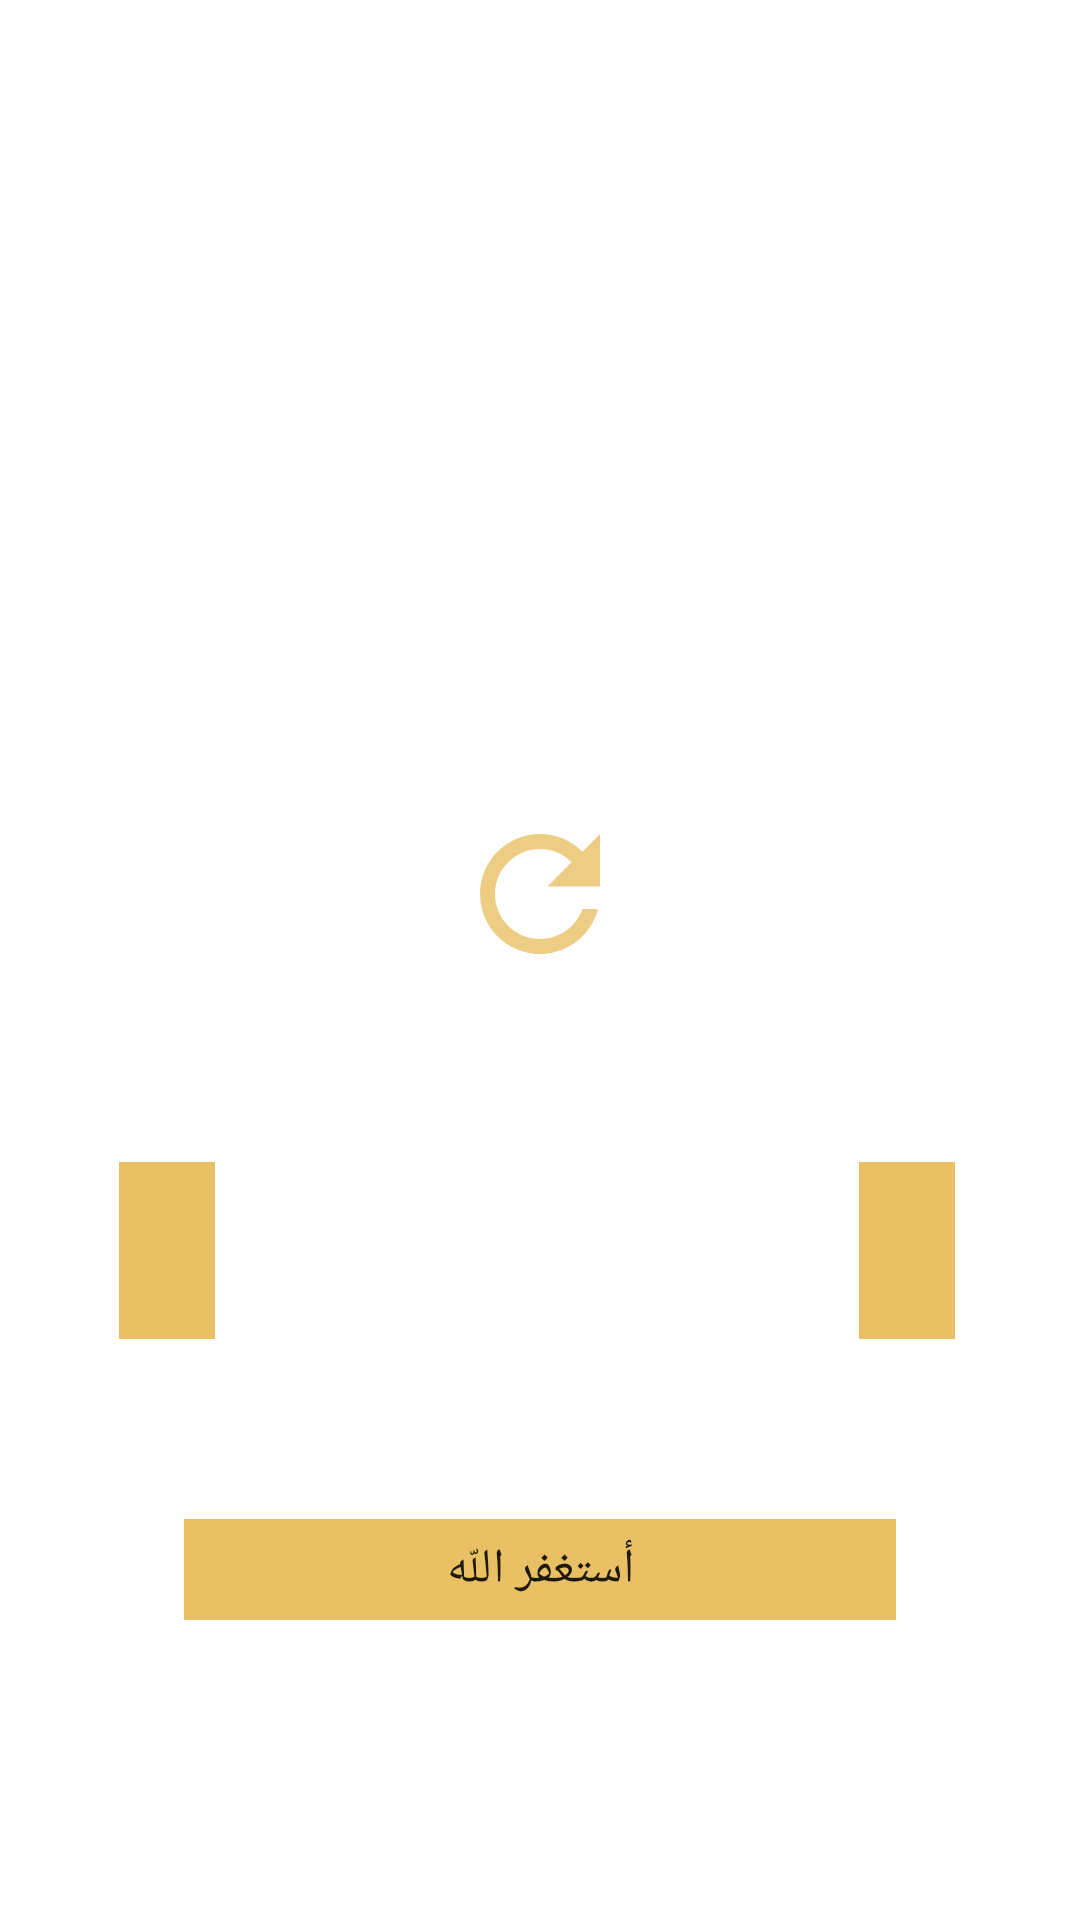

Screen size 1080×1920. Icon name, then its box in pixels as (x1, y1, x2, y2):
refresh: (480, 834, 600, 954)
